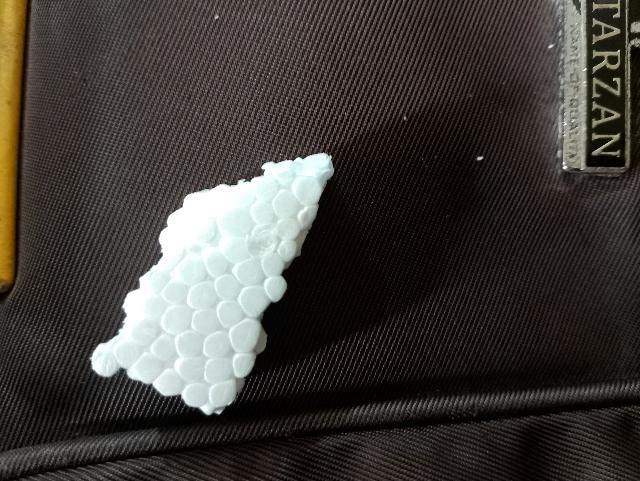cocksheet: (120, 149, 332, 406)
